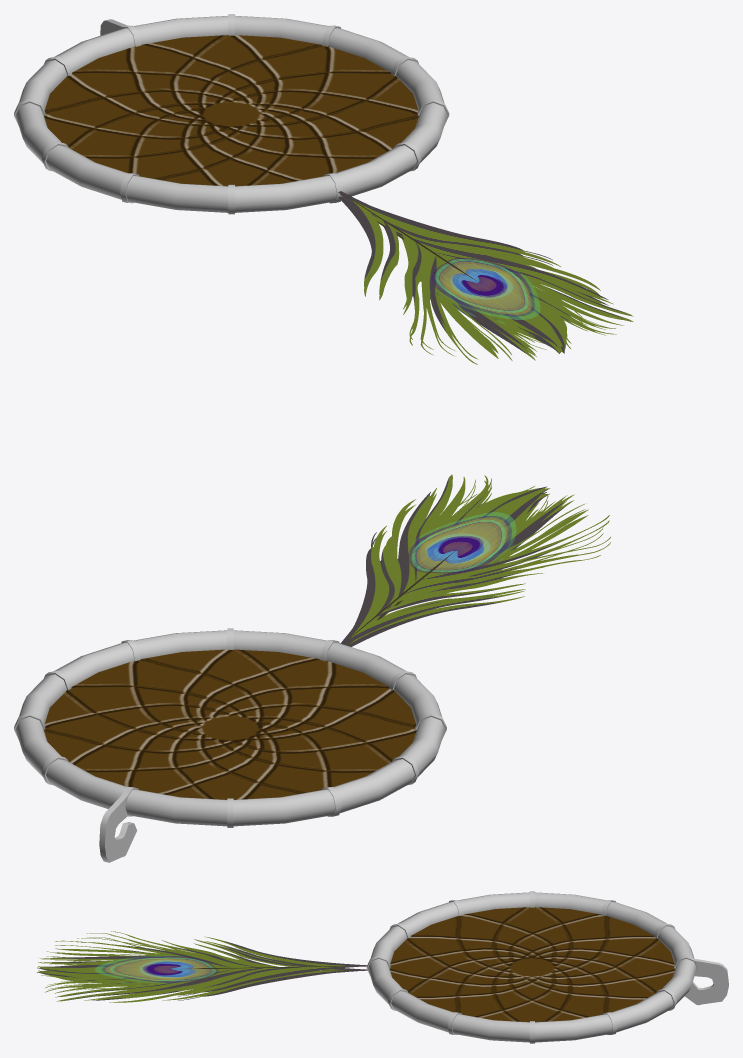
The model's file is Filtro_dos_sohos_Diffuse.fbx.
3 renders of one model, top to bottom at view 1: azimuth 30°, elevation 25°; view 2: azimuth 150°, elevation 25°; view 3: azimuth 270°, elevation 25°, orthographic. The views are drawn at different scales.
Parts seen in each view (by area): view 1: Plane; view 2: Plane; view 3: Plane.
Boxes of the visible parts, x1,y1,x2,y2 form: Plane: [14, 14, 633, 364]; Plane: [14, 474, 610, 862]; Plane: [37, 891, 728, 1043].
Size of the model in its own units: 0.8482 by 0.1345 by 1.83.
